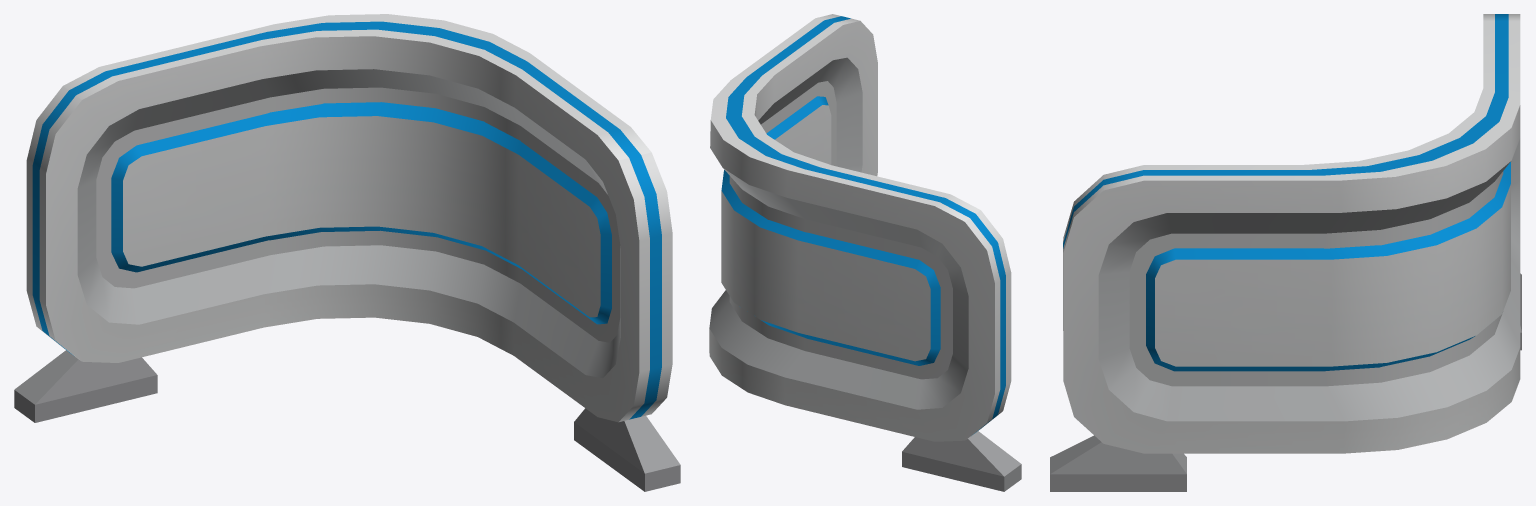
File: Fence_type_A_012.fbx
3 renders of one model, left to right at view 1: azimuth 30°, elevation 25°; view 2: azimuth 150°, elevation 25°; view 3: azimuth 270°, elevation 25°, orthographic. The views are drawn at different scales.
Parts seen in each view (by area): view 1: Fence_type_A_012; view 2: Fence_type_A_012; view 3: Fence_type_A_012.
Boxes of the visible parts, x1=… form: Fence_type_A_012: x1=14, y1=14, x2=680, y2=491; Fence_type_A_012: x1=709, y1=14, x2=1021, y2=491; Fence_type_A_012: x1=1050, y1=14, x2=1521, y2=491.
Bounding box in the file's own units: 195 × 194 × 141.
